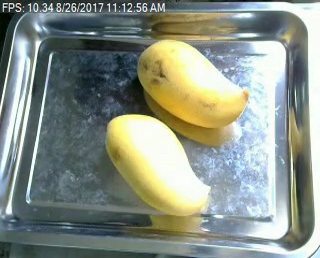Mango: (96, 108, 219, 217), (132, 31, 252, 129)
